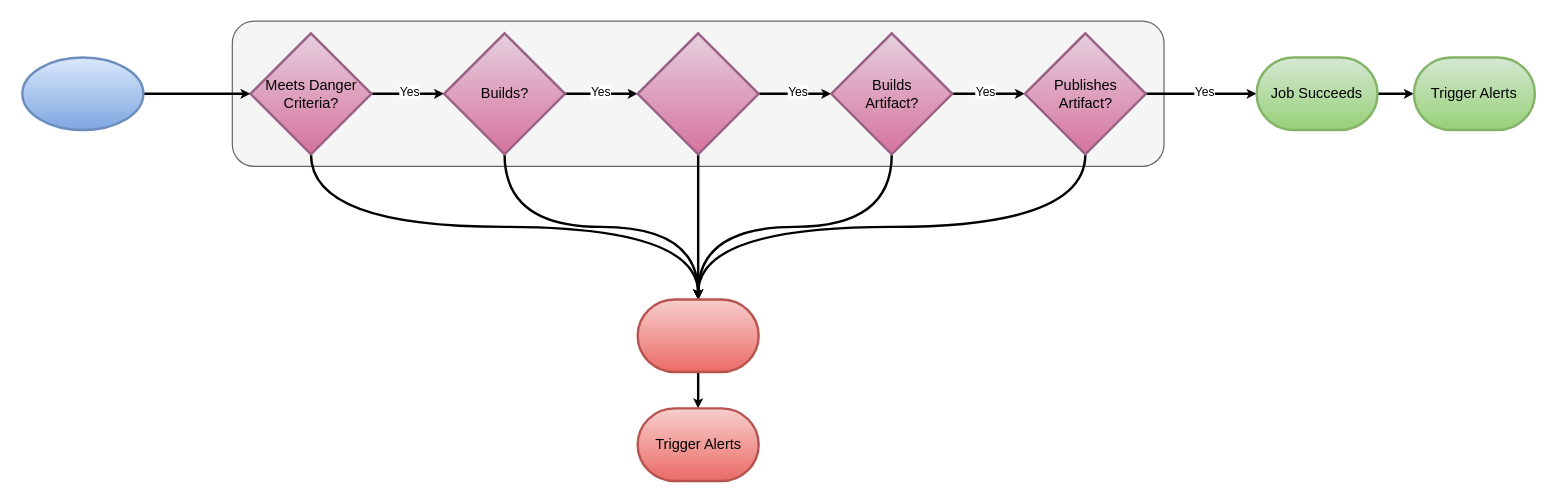
Image size: 1556x503. Some labels were removed from this diagram. The shapes that lost their labels are listed below. From the top down, each one's centre as x and y in pixels, then its label:
the point at 82,93: Code merged to develop
the point at 697,93: Unit Tests Pass?
the point at 697,335: Fail Job
